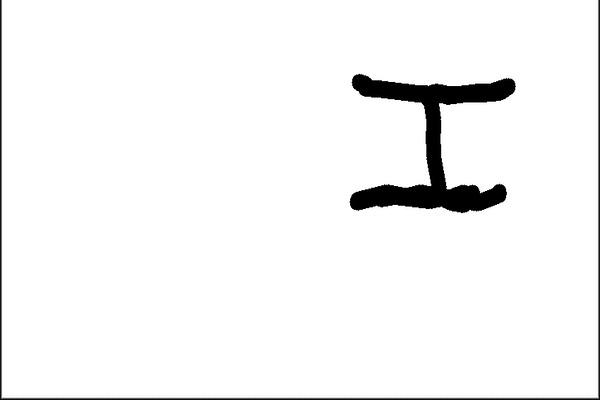i: (336, 56, 521, 220)
